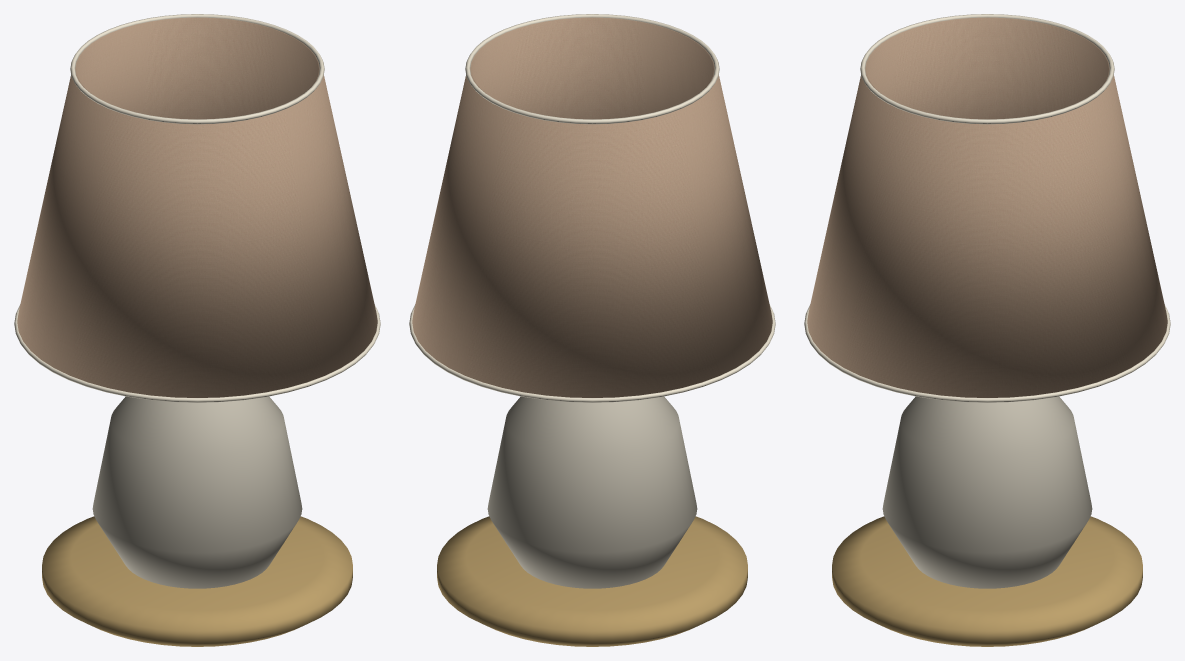
Rendered from scandinavian.table_lamp.gltf.
3 views of the same model, side by side, from view 1: azimuth 30°, elevation 25°; view 2: azimuth 150°, elevation 25°; view 3: azimuth 270°, elevation 25° (orthographic).
Visible parts, largest first — view 1: scandinavian.table_lamp.foot; view 2: scandinavian.table_lamp.foot; view 3: scandinavian.table_lamp.foot.
Boxes of the visible parts, bbox=[...] form: scandinavian.table_lamp.foot: bbox=[14, 14, 380, 646]; scandinavian.table_lamp.foot: bbox=[409, 14, 775, 646]; scandinavian.table_lamp.foot: bbox=[804, 14, 1170, 646].
Size of the model in its own units: 0.294 by 0.4617 by 0.294.
Materials: 5 (1 with a texture image).
